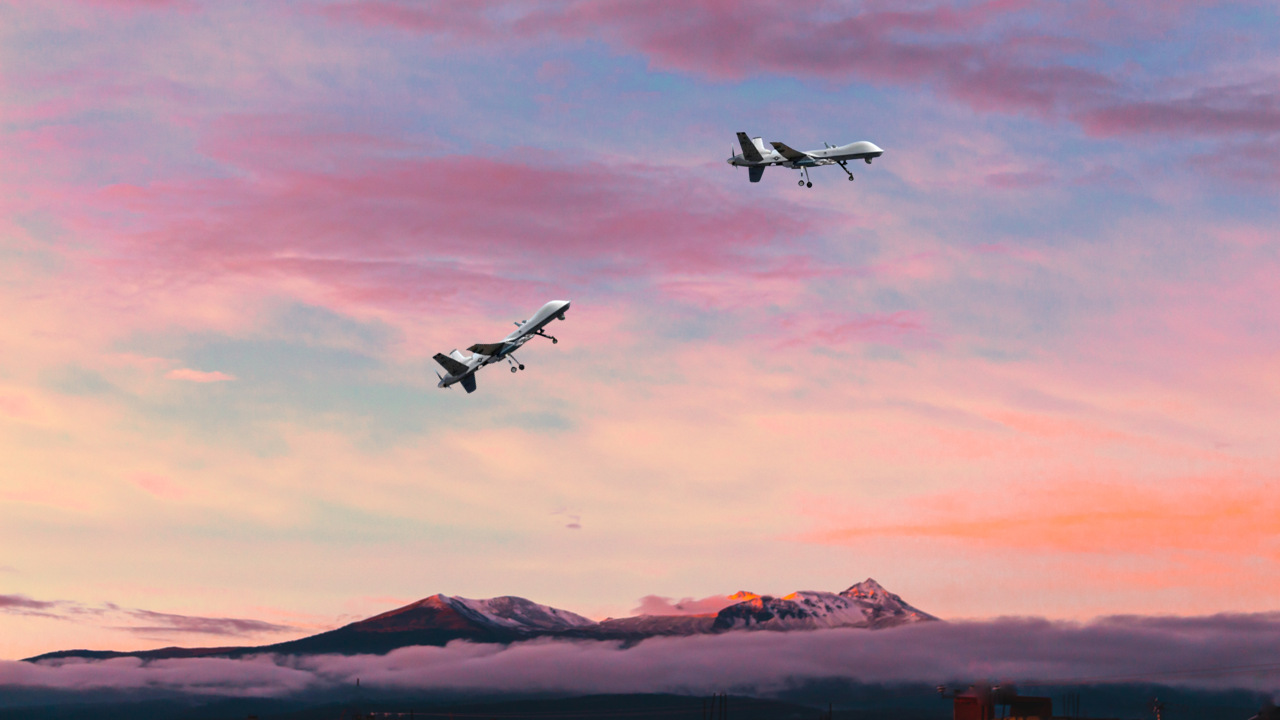military drone: (431, 299, 570, 393), (726, 131, 883, 188)
